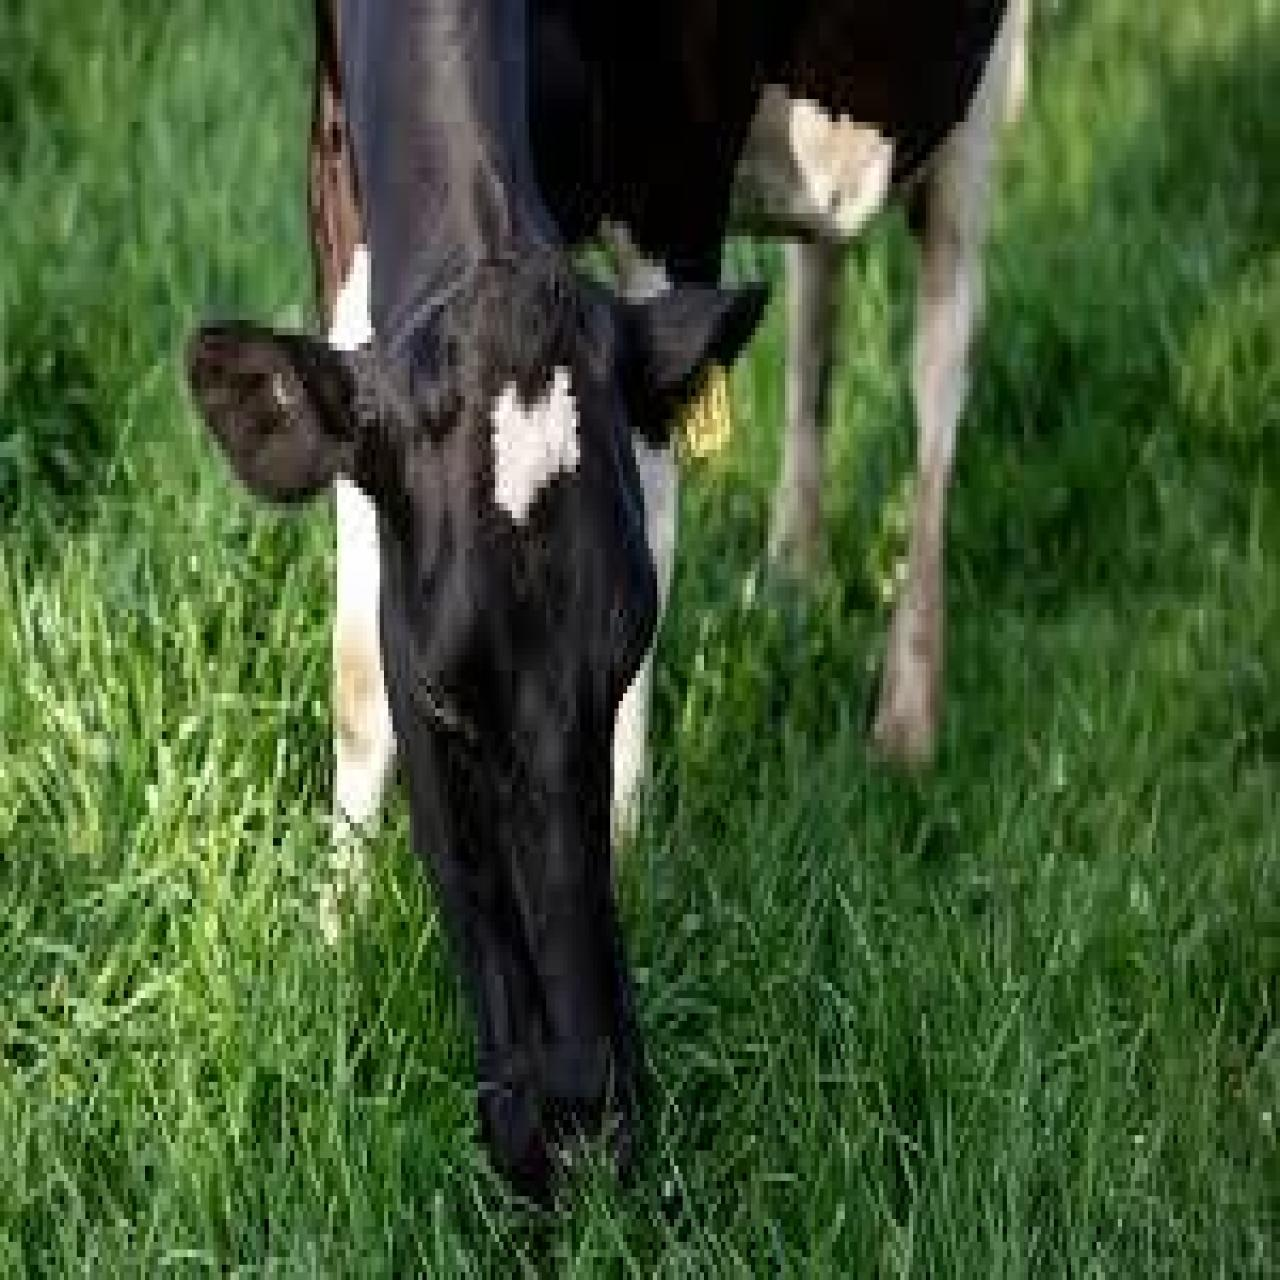cow: (188, 0, 1041, 1166)
